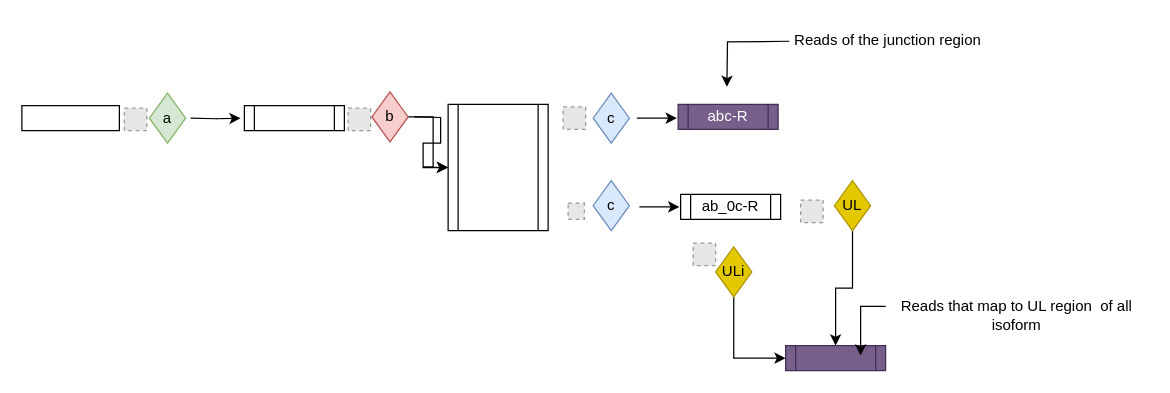
This 1170x393 diagram has some shape labels left out. Grey dashed boxes stand in for pictures. Here are the shapes that lost their labels. From the top down, the centre of each, then its label:
At pixel 70 117: "RR".
At pixel 293 117: "a-R".
At pixel 497 167: "ab-R".
At pixel 835 357: "UL-R".
